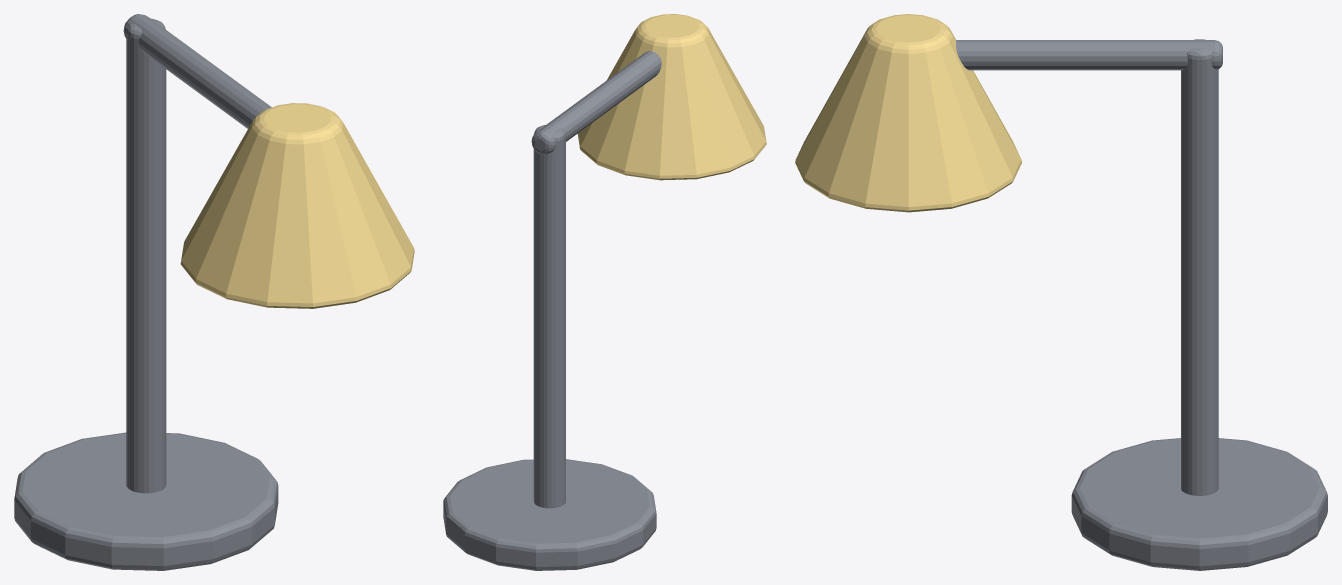
Rendered from DeskLamp.fbx.
The picture shows the model from 3 angles, left to right: view 1: azimuth 30°, elevation 25°; view 2: azimuth 150°, elevation 25°; view 3: azimuth 270°, elevation 25°; orthographic projection. The views are drawn at different scales.
Visible parts, largest first — view 1: DeskLamp; view 2: DeskLamp; view 3: DeskLamp.
Part boxes in pixels (<box>): DeskLamp: <box>14,14,414,570</box>; DeskLamp: <box>443,14,766,570</box>; DeskLamp: <box>795,14,1327,570</box>.
Bounding box in the file's own units: 0.22 × 0.465 × 0.4575.
